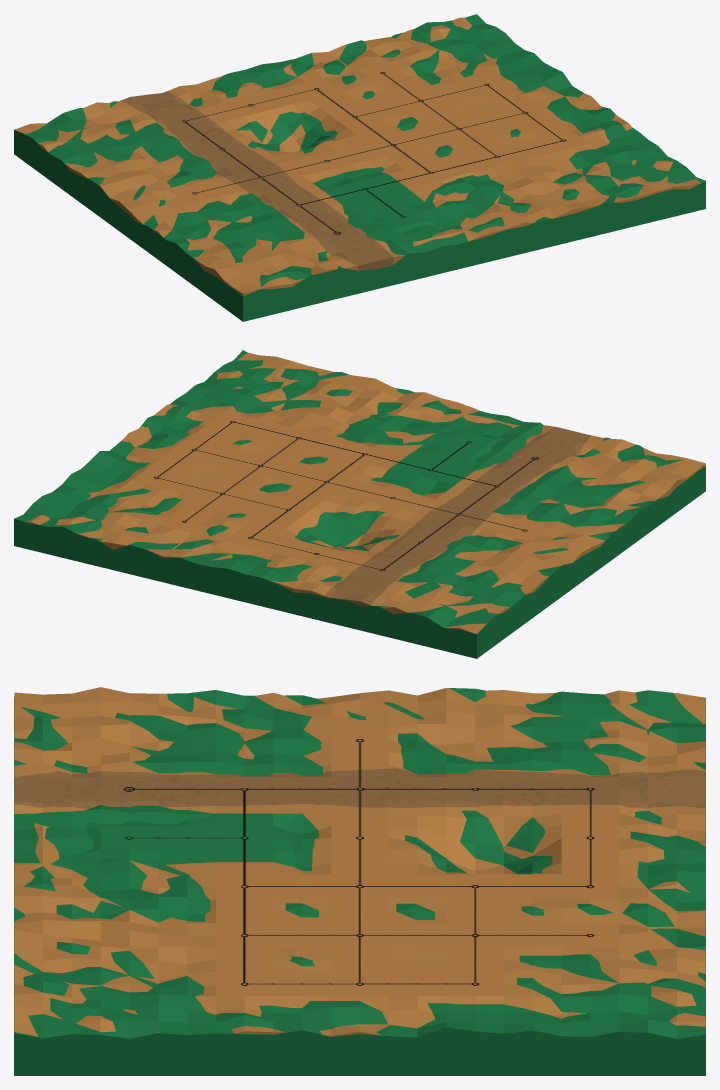
The model's file is Nivell5.FBX.
3 views of the same model, one above another, from view 1: azimuth 30°, elevation 25°; view 2: azimuth 150°, elevation 25°; view 3: azimuth 270°, elevation 25° (orthographic). The views are drawn at different scales.
Visible parts, largest first — view 1: Plane002; view 2: Plane002; view 3: Plane002.
Boxes of the visible parts, left/top/right/bottom form: Plane002: left=14, top=14, right=705, bottom=321; Plane002: left=14, top=350, right=705, bottom=658; Plane002: left=14, top=687, right=705, bottom=1075.
Bounding box in the file's own units: 13.79 × 0.9167 × 11.82.
